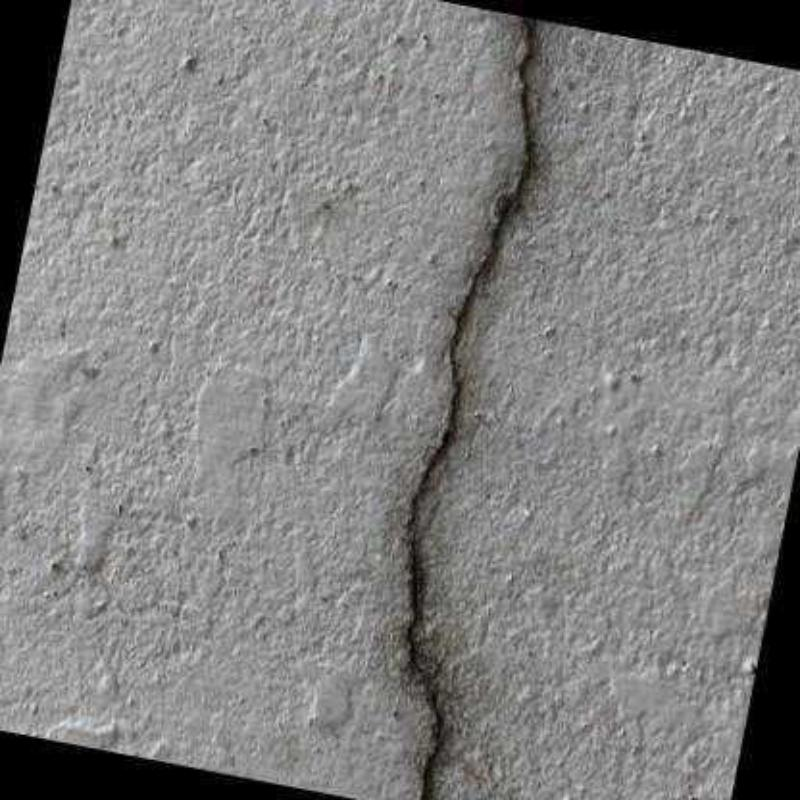crack: (403, 16, 532, 800)
